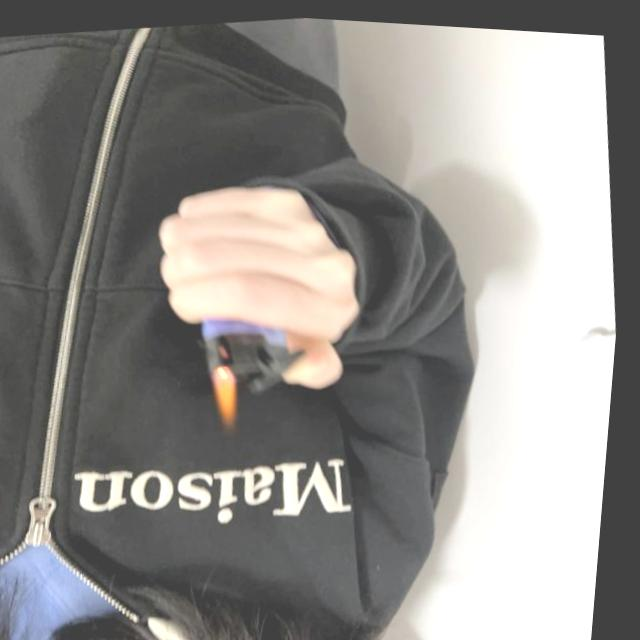Fire: (212, 359, 252, 432)
